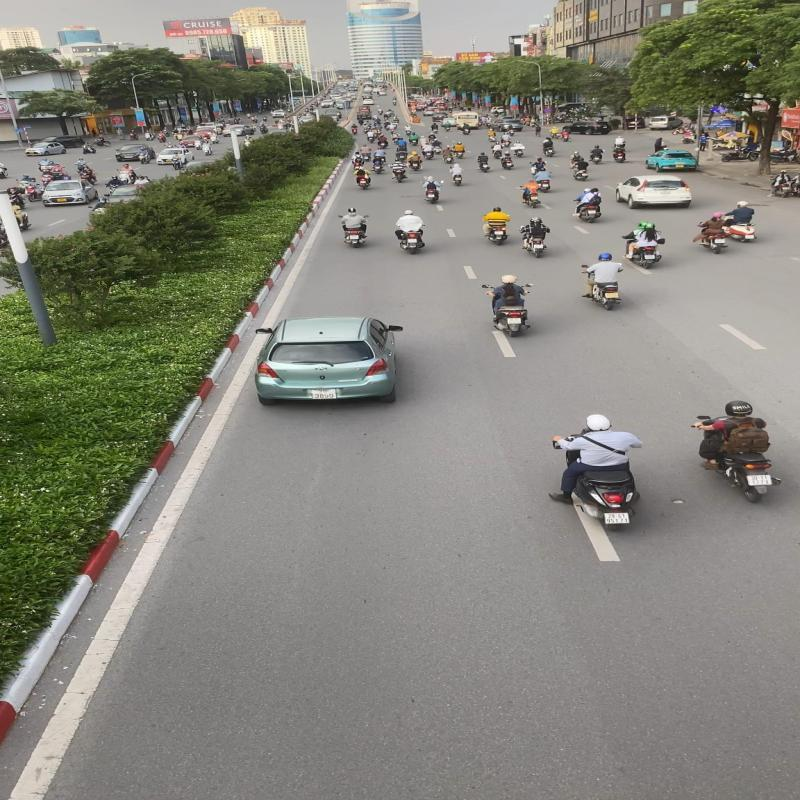helmet: (585, 412, 612, 431), (724, 400, 754, 416)
licenseplate: (602, 512, 633, 526), (746, 474, 775, 487)
motorcyclist: (551, 409, 648, 533), (688, 398, 786, 504)
